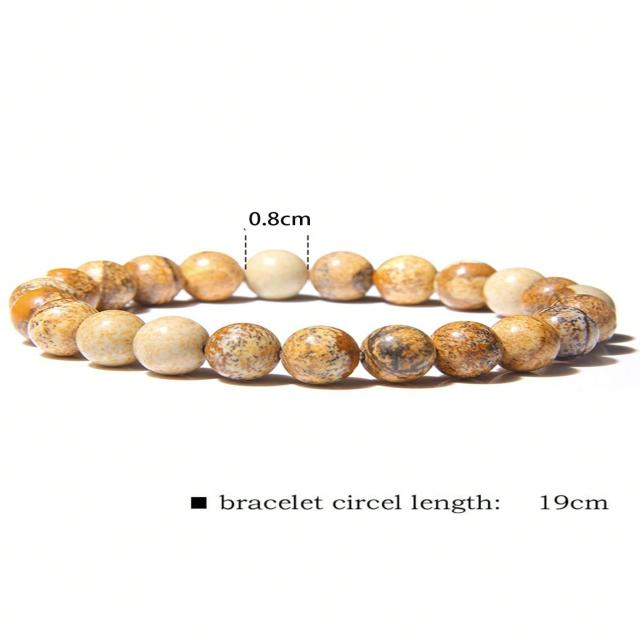bracelet: (0, 160, 640, 407)
